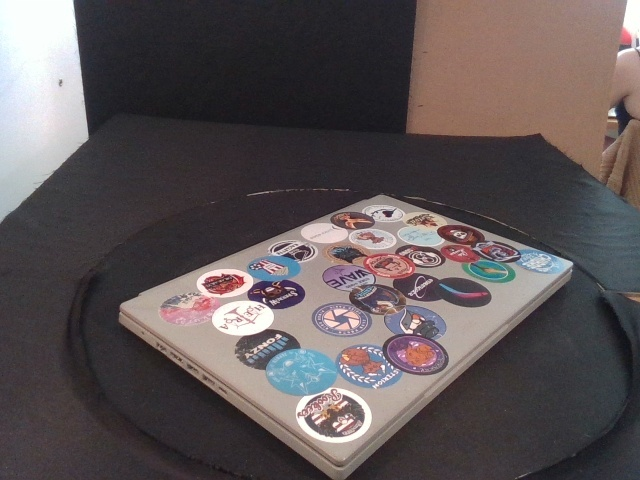laptop: (118, 193, 573, 480)
